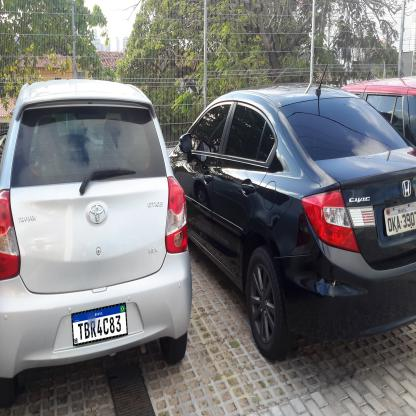PlacaM: (71, 303, 128, 346)
